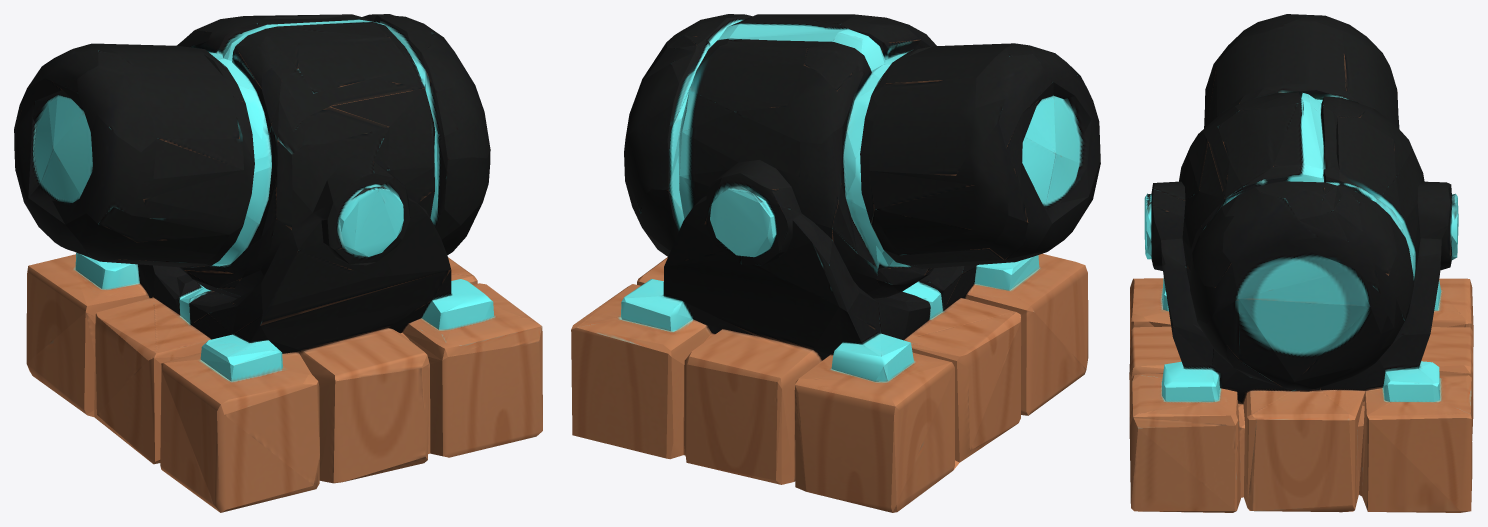
File: cannon.glb
The picture shows the model from 3 angles, left to right: view 1: azimuth 30°, elevation 25°; view 2: azimuth 150°, elevation 25°; view 3: azimuth 270°, elevation 25°; orthographic projection. The views are drawn at different scales.
Size of the model in its own units: 1.39 by 1.31 by 1.17.
1 material, 1 textured.
